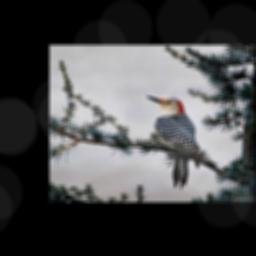Woodpecker: (146, 95, 201, 188)
